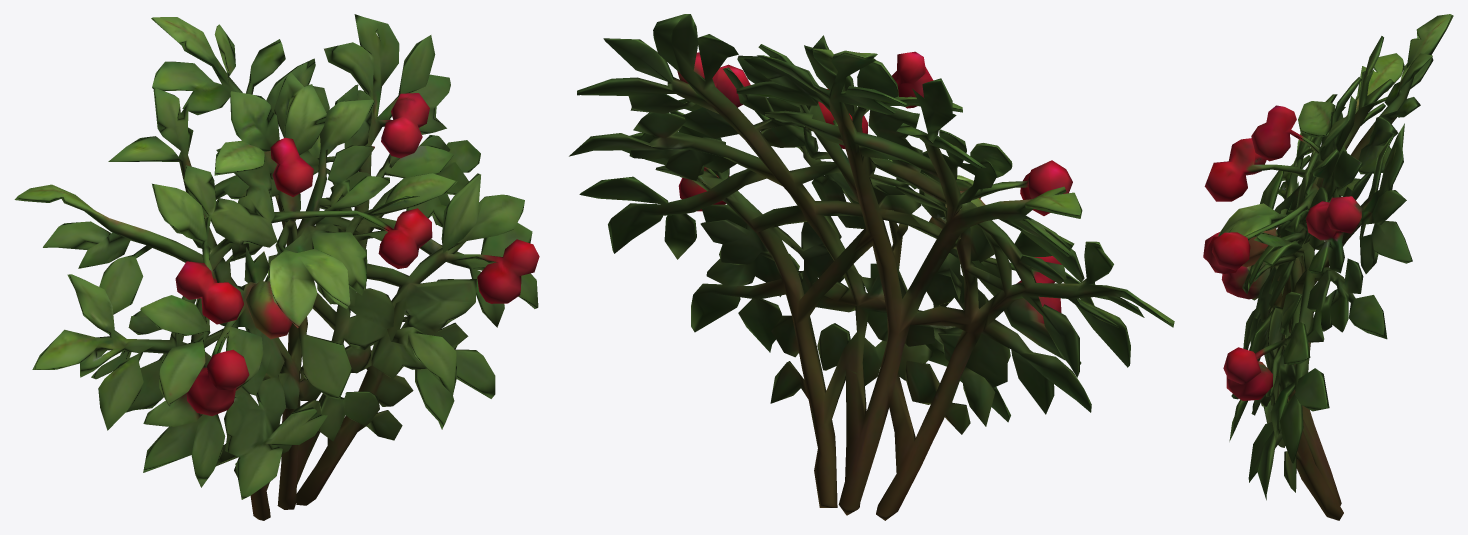
Rendered from Comestible-Old.glb.
The picture shows the model from 3 angles, left to right: view 1: azimuth 30°, elevation 25°; view 2: azimuth 150°, elevation 25°; view 3: azimuth 270°, elevation 25°; orthographic projection. The views are drawn at different scales.
Parts seen in each view (by area): view 1: Comestibles; view 2: Comestibles; view 3: Comestibles.
Boxes of the visible parts, left/top/right/bottom form: Comestibles: left=14, top=14, right=539, bottom=520; Comestibles: left=569, top=14, right=1174, bottom=520; Comestibles: left=1203, top=14, right=1453, bottom=520.
Size of the model in its own units: 0.3146 by 0.2745 by 0.1348.
Materials: 1 (1 with a texture image).
